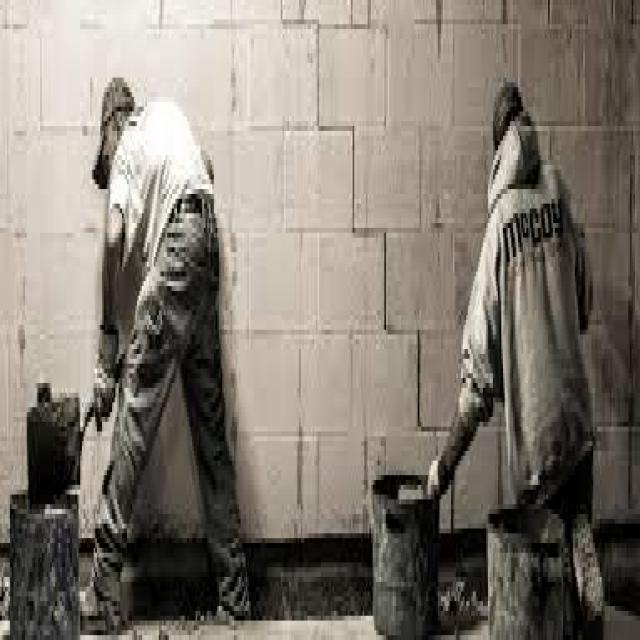Crack: (276, 0, 453, 432)
